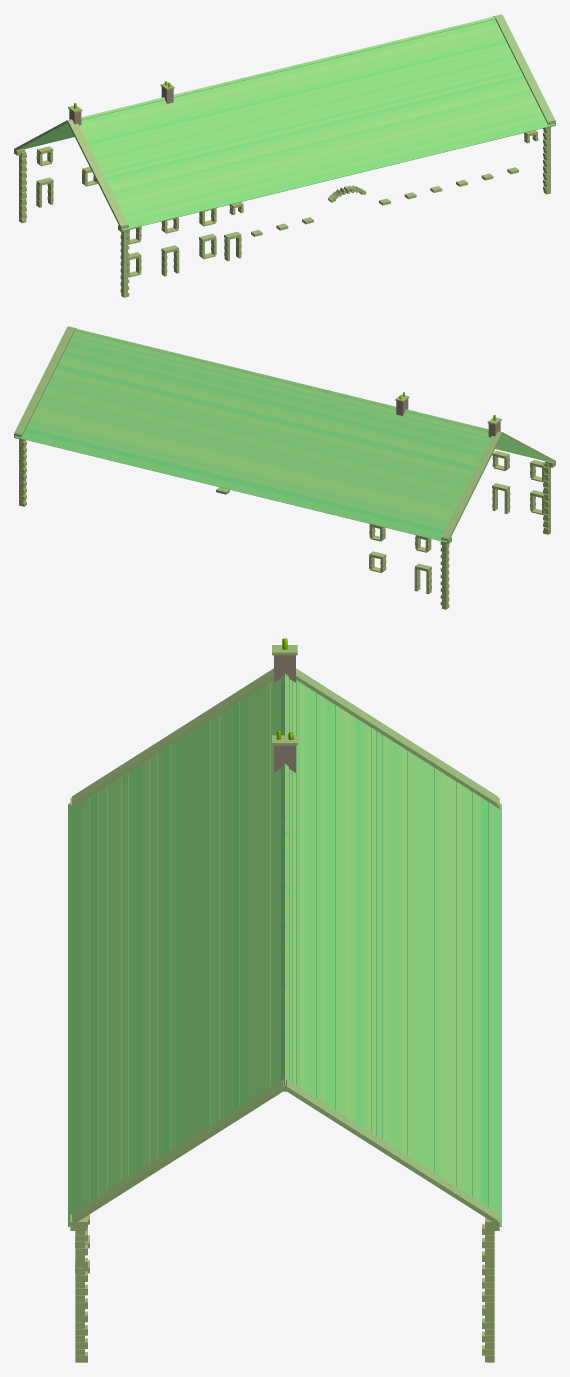
Rendered from SM_Bld_165_Stone.glb.
3 renders of one model, top to bottom at view 1: azimuth 30°, elevation 25°; view 2: azimuth 150°, elevation 25°; view 3: azimuth 270°, elevation 25°, orthographic. The views are drawn at different scales.
Visible parts, largest first — view 1: SM_Bld_165_Stone; view 2: SM_Bld_165_Stone; view 3: SM_Bld_165_Stone.
Boxes of the visible parts, x1,y1,x2,y2 form: SM_Bld_165_Stone: (14,14,555,297); SM_Bld_165_Stone: (14,326,555,609); SM_Bld_165_Stone: (68,638,501,1362).
Bounding box in the file's own units: 40.68 × 13.84 × 17.58.
